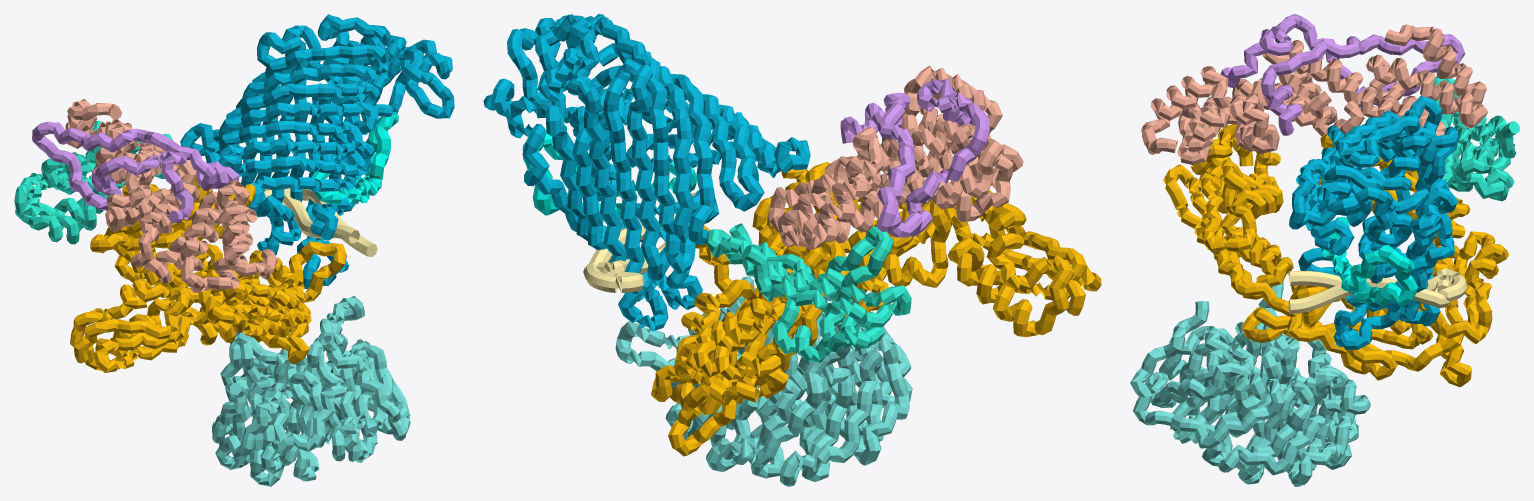
The model's file is 5D0O_assembled_pieces.glb.
The picture shows the model from 3 angles, left to right: view 1: azimuth 30°, elevation 25°; view 2: azimuth 150°, elevation 25°; view 3: azimuth 270°, elevation 25°; orthographic projection. The views are drawn at different scales.
Visible parts, largest first — view 1: Piece_BAM_BamA_Barrel, Piece_BAM_BamB, Piece_BAM_BamA_POTRA, Piece_BAM_BamD, Piece_BAM_BamC, Piece_BAM_BamE, Piece_BAM_Lateral_Seam, Piece_BAM_Client_OMP; view 2: Piece_BAM_BamA_Barrel, Piece_BAM_BamA_POTRA, Piece_BAM_BamB, Piece_BAM_BamD, Piece_BAM_BamE, Piece_BAM_BamC, Piece_BAM_Client_OMP, Piece_BAM_Lateral_Seam; view 3: Piece_BAM_BamB, Piece_BAM_BamA_POTRA, Piece_BAM_BamA_Barrel, Piece_BAM_BamD, Piece_BAM_BamC, Piece_BAM_BamE, Piece_BAM_Lateral_Seam, Piece_BAM_Client_OMP.
Boxes of the visible parts, left/top/right/bottom form: Piece_BAM_BamA_Barrel: left=180, top=14, right=454, bottom=288; Piece_BAM_BamB: left=212, top=296, right=410, bottom=486; Piece_BAM_BamA_POTRA: left=70, top=171, right=346, bottom=372; Piece_BAM_BamD: left=65, top=99, right=277, bottom=292; Piece_BAM_BamC: left=32, top=121, right=239, bottom=222; Piece_BAM_BamE: left=14, top=120, right=172, bottom=244; Piece_BAM_Lateral_Seam: left=311, top=114, right=398, bottom=203; Piece_BAM_Client_OMP: left=264, top=188, right=377, bottom=257; Piece_BAM_BamA_Barrel: left=483, top=14, right=810, bottom=331; Piece_BAM_BamA_POTRA: left=651, top=162, right=1101, bottom=456; Piece_BAM_BamB: left=615, top=276, right=912, bottom=486; Piece_BAM_BamD: left=768, top=65, right=1023, bottom=249; Piece_BAM_BamE: left=707, top=223, right=911, bottom=362; Piece_BAM_BamC: left=840, top=78, right=989, bottom=237; Piece_BAM_Client_OMP: left=583, top=192, right=695, bottom=292; Piece_BAM_Lateral_Seam: left=522, top=130, right=696, bottom=220; Piece_BAM_BamB: left=1130, top=281, right=1370, bottom=486; Piece_BAM_BamA_POTRA: left=1163, top=124, right=1508, bottom=387; Piece_BAM_BamA_Barrel: left=1289, top=96, right=1458, bottom=349; Piece_BAM_BamD: left=1141, top=24, right=1487, bottom=164; Piece_BAM_BamC: left=1220, top=14, right=1465, bottom=135; Piece_BAM_BamE: left=1434, top=76, right=1519, bottom=201; Piece_BAM_Lateral_Seam: left=1321, top=217, right=1418, bottom=306; Piece_BAM_Client_OMP: left=1288, top=268, right=1467, bottom=313.
Bounding box in the file's own units: 12.17 × 10.42 × 9.16.
